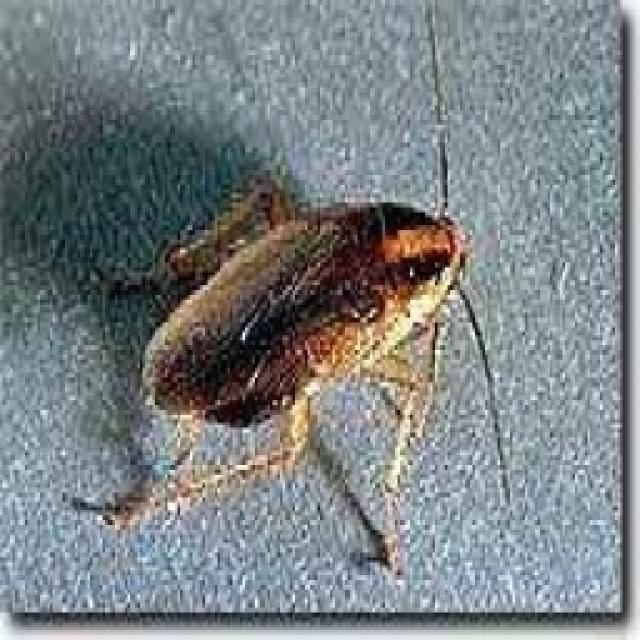cockroach: (64, 158, 476, 573)
